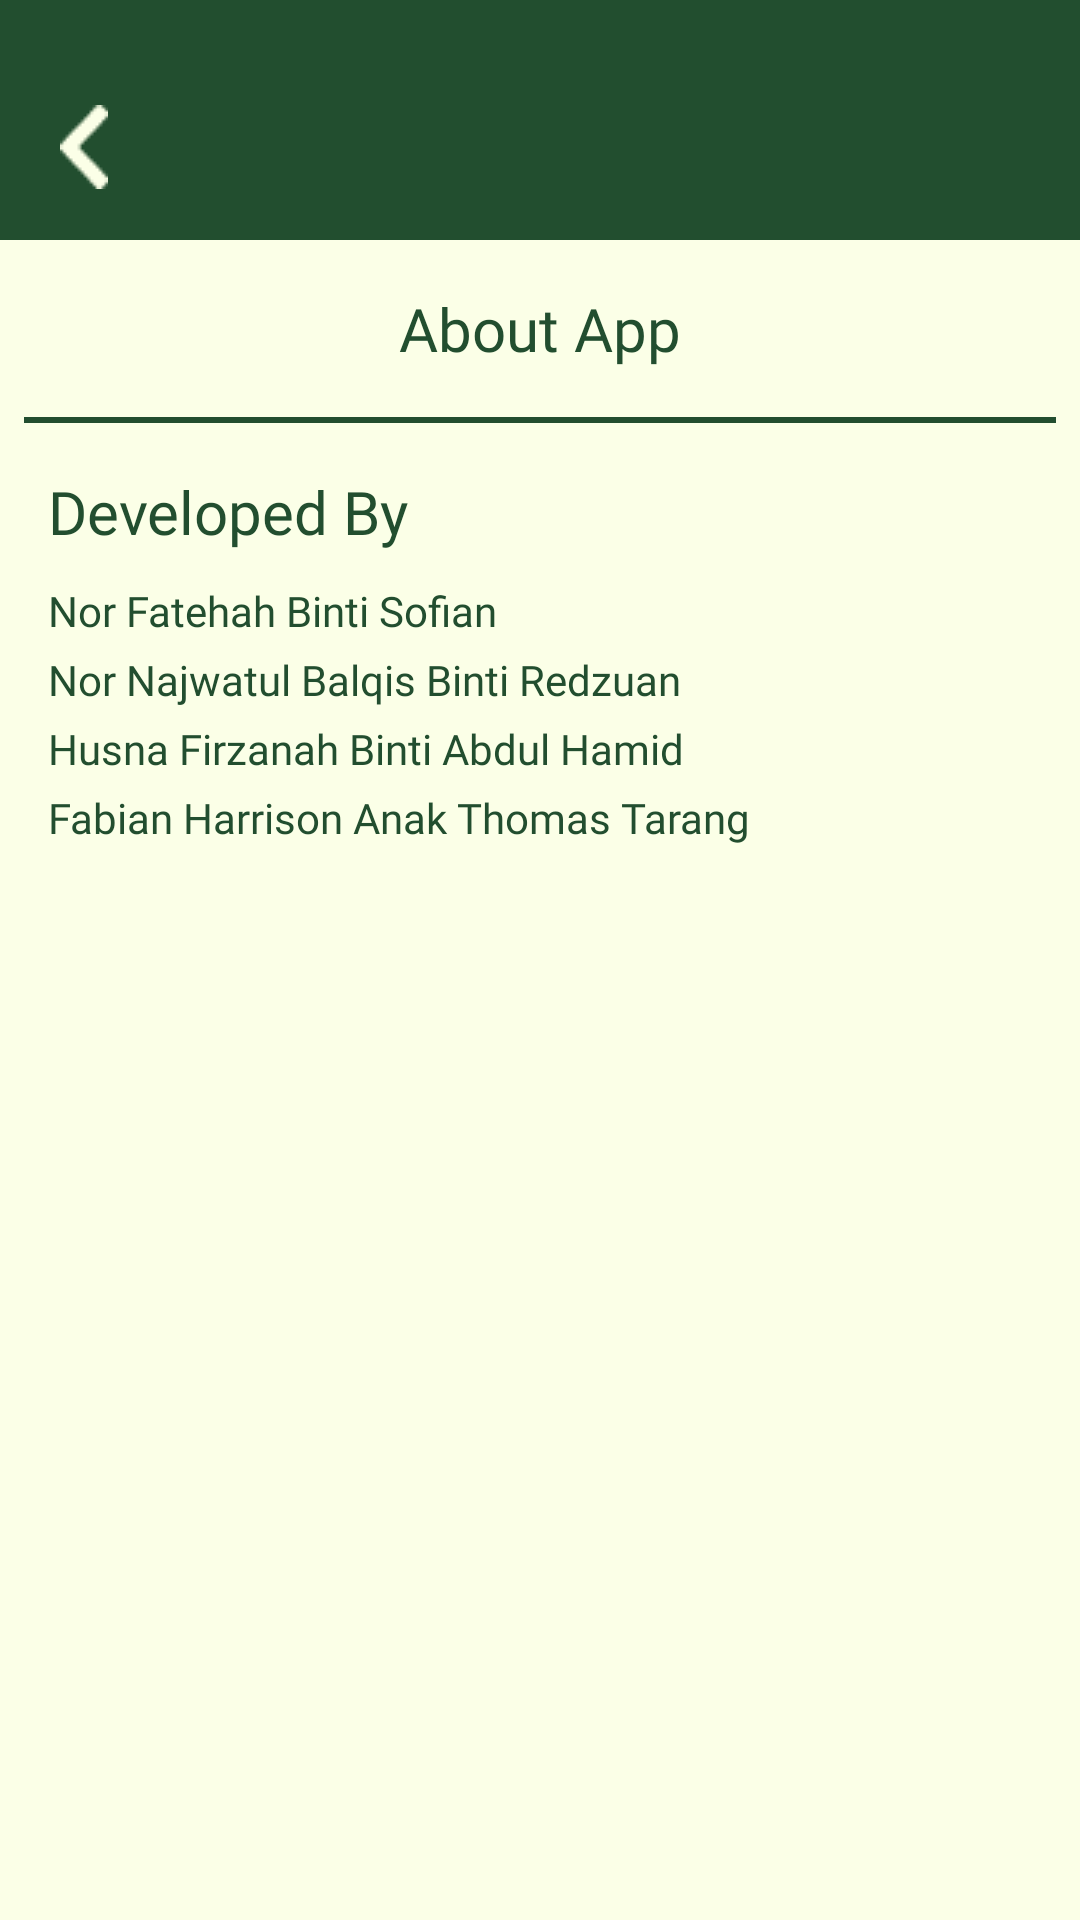

Point at icon controls on the screen. Image size 1080 × 1920, points as [x,y].
arrow left pale: [84,147]
